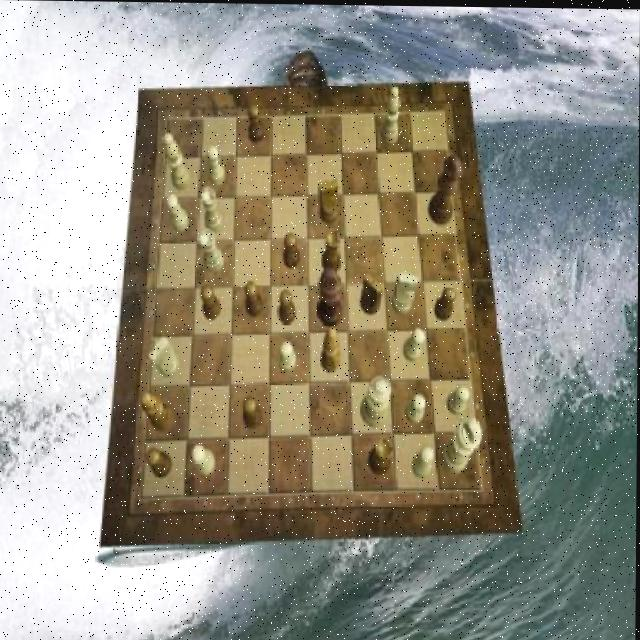bishop: (140, 393, 173, 433), (321, 325, 341, 371)
black-bishop: (317, 267, 342, 327)
black-king: (360, 272, 383, 315), (319, 178, 339, 224)
black-knight: (434, 285, 457, 320), (147, 448, 173, 478), (201, 284, 221, 320), (245, 281, 263, 318), (279, 288, 297, 324), (247, 105, 264, 143), (242, 397, 262, 429), (282, 233, 300, 267)
black-pawn: (426, 152, 462, 224)
black-queen: (321, 229, 342, 274), (368, 438, 393, 475)
black-rook: (162, 131, 190, 189), (382, 86, 401, 145)
white-bishop: (440, 414, 482, 472)
white-king: (148, 336, 180, 377), (393, 272, 420, 315)
white-knight: (167, 193, 190, 230), (403, 326, 425, 361), (191, 444, 214, 476), (412, 443, 433, 478), (447, 384, 470, 415), (208, 146, 225, 184), (405, 394, 426, 423), (279, 340, 296, 373)
white-pawn: (361, 373, 392, 428)
white-queen: (200, 228, 225, 273), (200, 185, 223, 232)
